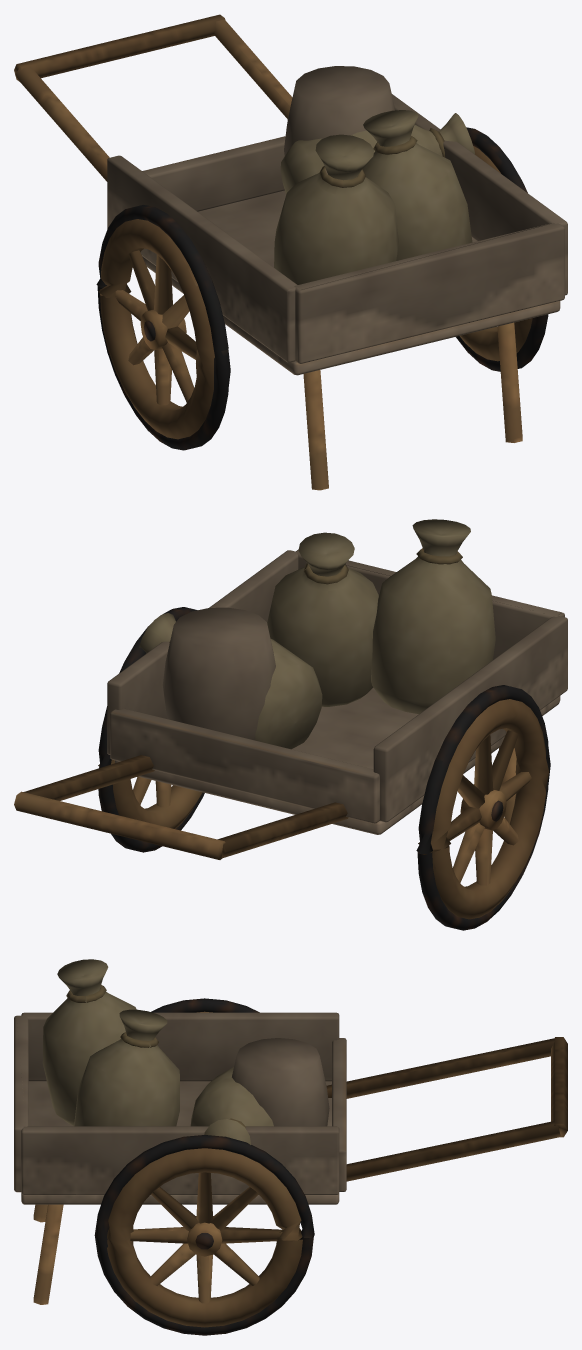
Rendered from handcart.obj.
3 views of the same model, one above another, from view 1: azimuth 30°, elevation 25°; view 2: azimuth 150°, elevation 25°; view 3: azimuth 270°, elevation 25° (orthographic). The views are drawn at different scales.
Parts seen in each view (by area): view 1: part2, part0, part3, part1, part4; view 2: part2, part3, part0, part1, part4; view 3: part2, part0, part3, part1, part4.
Boxes of the visible parts, x1,y1,x2,y2 form: part2: [107, 66, 567, 375]; part0: [14, 14, 532, 490]; part3: [274, 110, 474, 284]; part1: [96, 127, 548, 450]; part4: [319, 128, 445, 187]; part2: [107, 549, 567, 834]; part3: [139, 519, 495, 749]; part0: [14, 699, 549, 919]; part1: [98, 607, 550, 930]; part4: [169, 548, 462, 642]; part2: [14, 1012, 346, 1204]; part0: [33, 1011, 567, 1327]; part3: [42, 959, 273, 1144]; part1: [94, 998, 314, 1335]; part4: [66, 984, 245, 1127].
Bounding box in the file's own units: 1.44 × 1.25 × 2.26.
